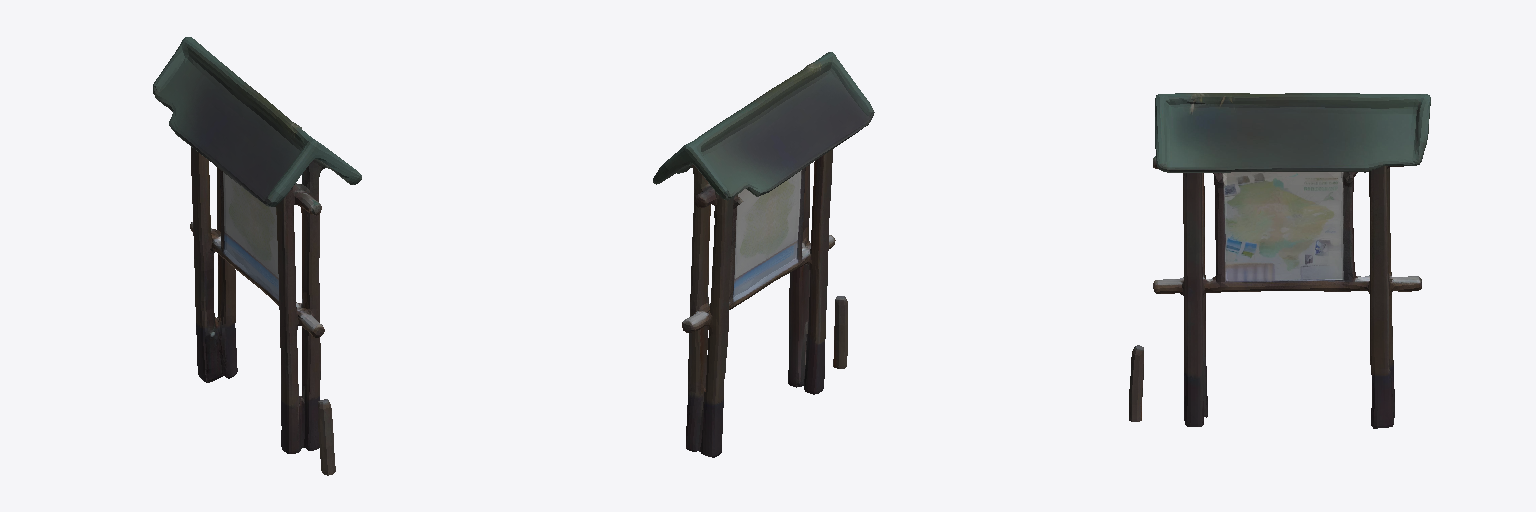
The picture shows the model from 3 angles: view 1: azimuth 30°, elevation 25°; view 2: azimuth 150°, elevation 25°; view 3: azimuth 270°, elevation 25°; orthographic projection.
Visible parts, largest first — view 1: tripo_node_[number redacted]f-3136-480e-a2a8-72cde186387f; view 2: tripo_node_[number redacted]f-3136-480e-a2a8-72cde186387f; view 3: tripo_node_[number redacted]f-3136-480e-a2a8-72cde186387f.
Boxes of the visible parts, box(x1,y1,x2,y2) form: tripo_node_[number redacted]f-3136-480e-a2a8-72cde186387f: box(153, 37, 361, 475); tripo_node_[number redacted]f-3136-480e-a2a8-72cde186387f: box(653, 52, 874, 457); tripo_node_[number redacted]f-3136-480e-a2a8-72cde186387f: box(1129, 93, 1430, 428).
Bounding box in the file's own units: 0.2816 × 0.9415 × 0.7862.
Materials: 1 (1 with a texture image).